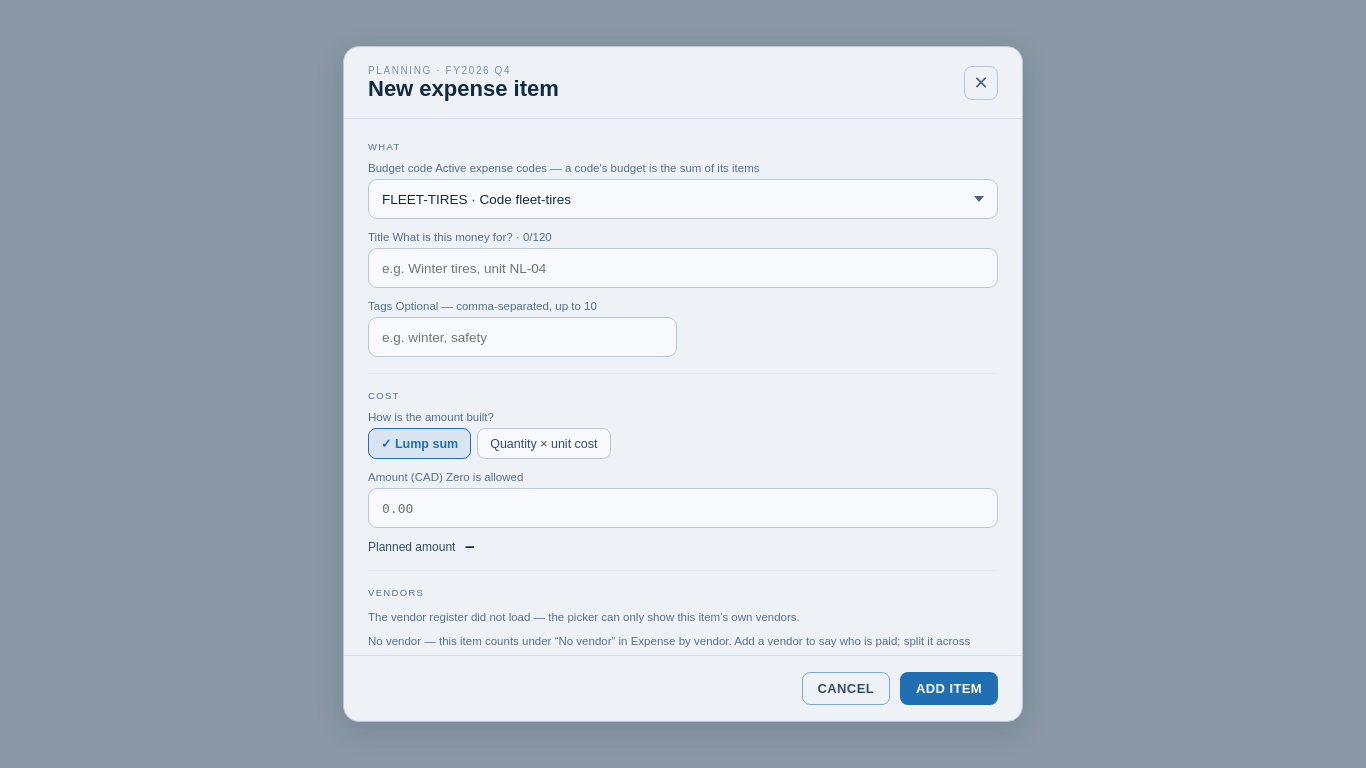
Test: BudgetItemFormModal — cost › rounds like the server — each factor first, then the product, half away from zero
Click the button "Quantity × unit cost" at (544, 444), box top-left (477, 428), bottom-right (611, 459)
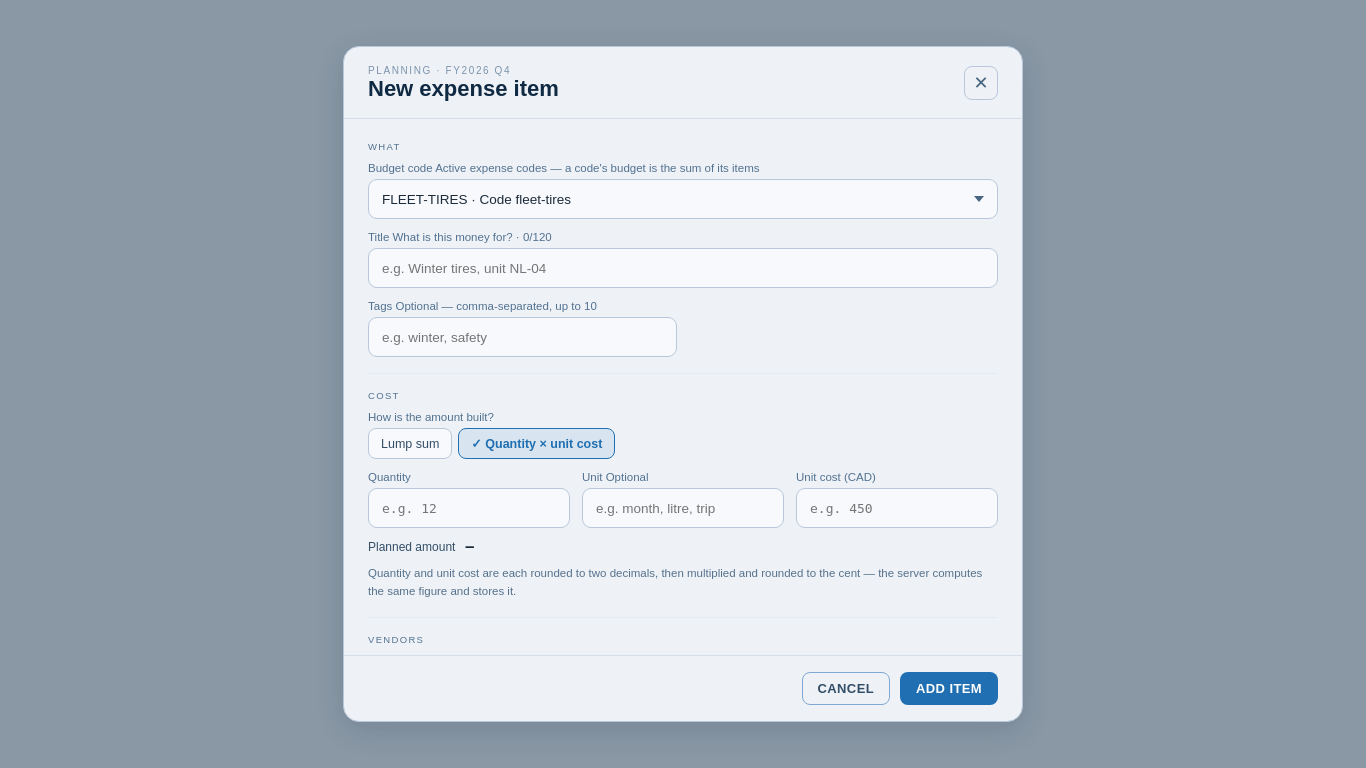
Type "3" into the number field with placeholder "e.g. 12" at (469, 508), box top-left (368, 488), bottom-right (570, 528)
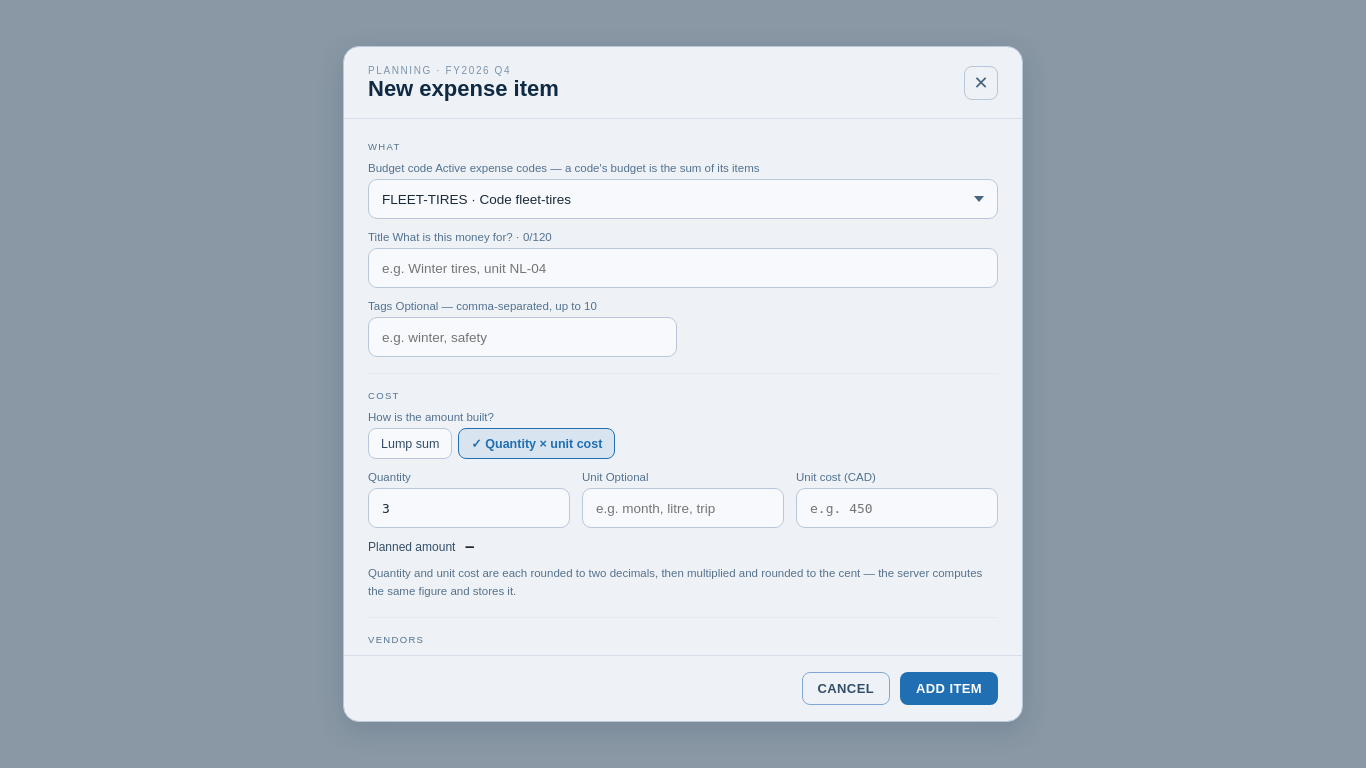
Type "1.005" into the number field with placeholder "e.g. 450" at (897, 508), box top-left (796, 488), bottom-right (998, 528)
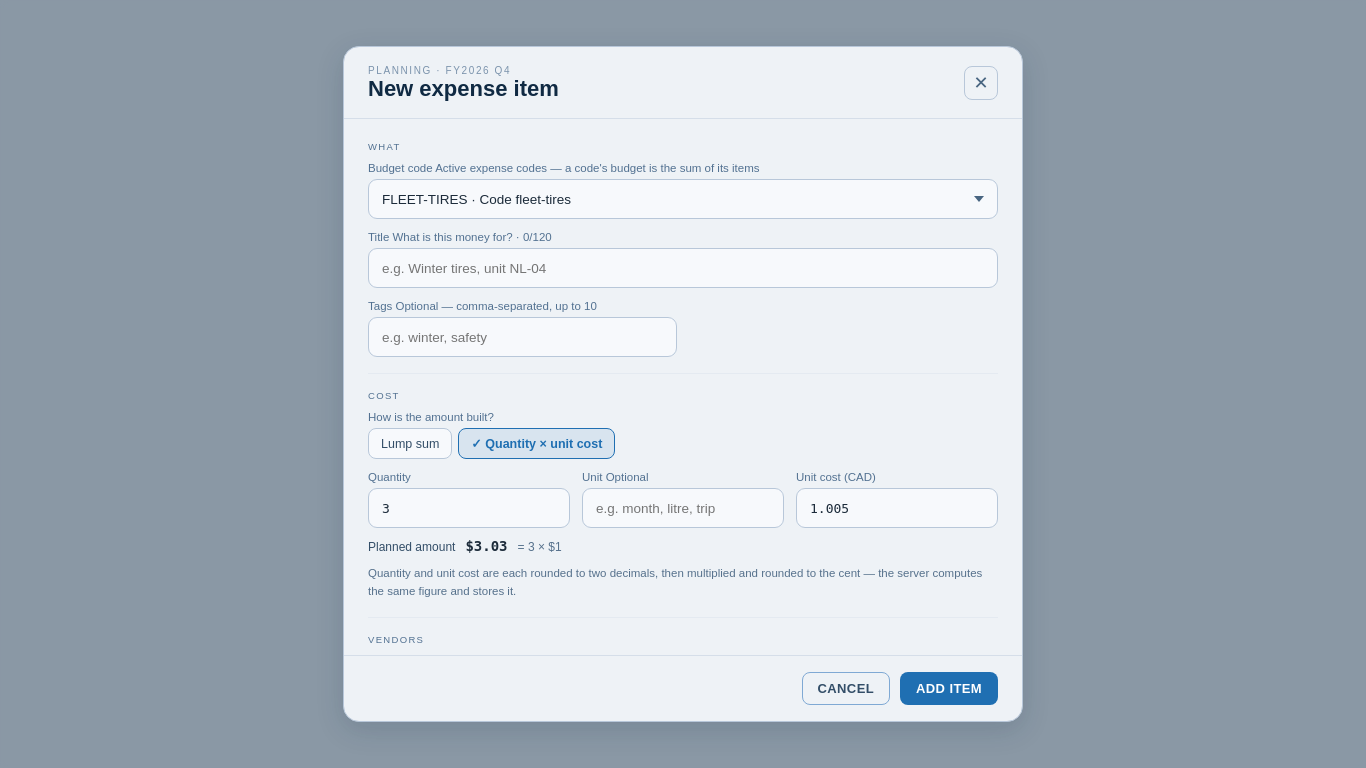
Result: the element with test id "item-total" shows "$3.03" at top-left (465, 538), bottom-right (508, 554)
